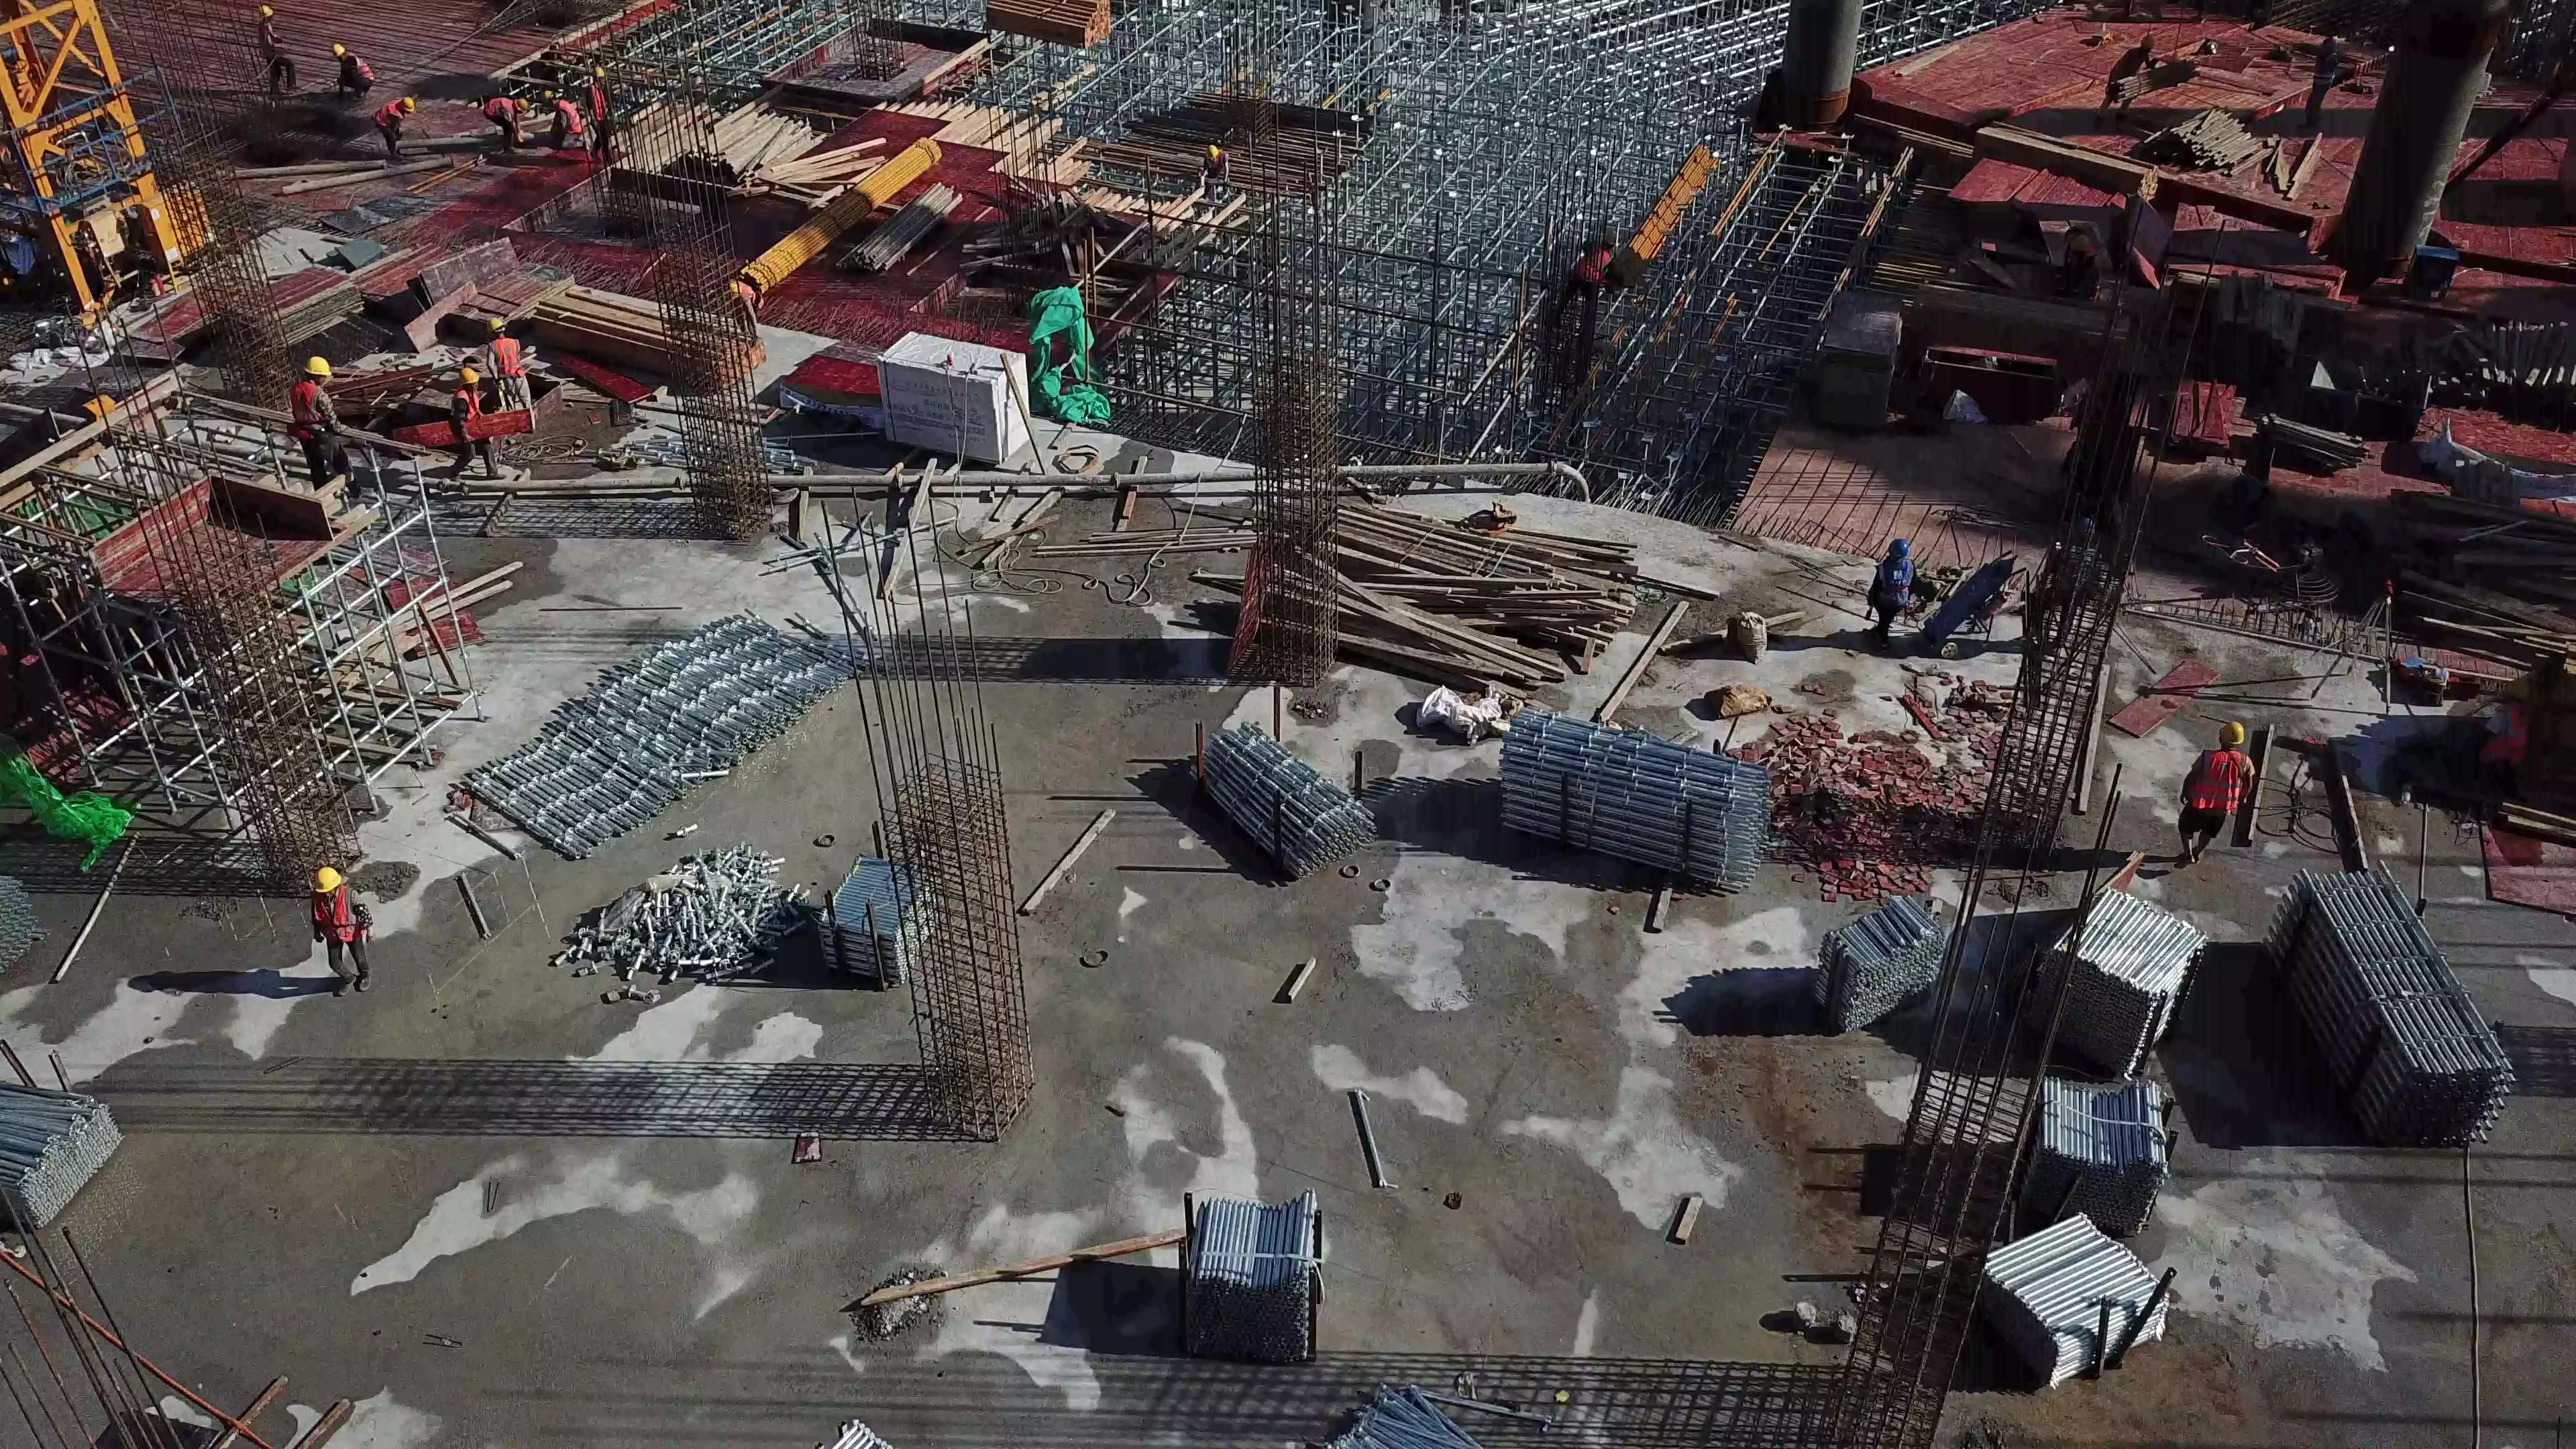board: (1809, 284, 1897, 431), (427, 241, 574, 317), (229, 264, 370, 337)
ebox: (127, 168, 223, 275), (2394, 241, 2455, 308)
helmet: (309, 863, 347, 898), (2211, 715, 2247, 745), (1888, 538, 1913, 563), (305, 353, 331, 375), (455, 364, 478, 384), (483, 317, 502, 335), (325, 40, 344, 55), (400, 98, 416, 115), (513, 96, 527, 113), (592, 67, 607, 82), (258, 7, 276, 19)
person: (2180, 713, 2256, 877), (284, 345, 352, 504), (305, 870, 378, 1004), (484, 317, 539, 447), (1870, 535, 1926, 645), (2477, 696, 2533, 802), (448, 370, 496, 485), (2104, 34, 2149, 134), (255, 5, 297, 108), (580, 65, 618, 171), (1572, 229, 1611, 329), (540, 86, 584, 157), (328, 40, 371, 106), (487, 93, 527, 161), (373, 95, 417, 160), (2309, 38, 2334, 134), (1198, 144, 1226, 193)
scaffold: (468, 616, 853, 863), (2281, 859, 2525, 1167), (1491, 710, 1760, 890), (1943, 1206, 2183, 1376), (2019, 881, 2184, 1082), (1168, 1178, 1332, 1356), (1, 1061, 141, 1224), (2018, 1077, 2176, 1223), (1201, 728, 1352, 875), (626, 874, 807, 991), (1803, 902, 1964, 1030), (820, 855, 934, 977)
vest: (2187, 742, 2247, 814), (315, 897, 364, 951), (1874, 559, 1917, 612), (288, 380, 328, 436), (445, 391, 480, 440), (486, 336, 521, 373), (554, 100, 580, 138), (372, 99, 402, 129), (587, 79, 608, 123), (347, 54, 372, 85), (486, 96, 516, 117)
wood: (1320, 502, 1611, 687), (2151, 104, 2322, 207), (616, 109, 832, 188), (573, 294, 753, 383), (936, 109, 1098, 191), (2202, 278, 2299, 399), (980, 1, 1120, 60)
